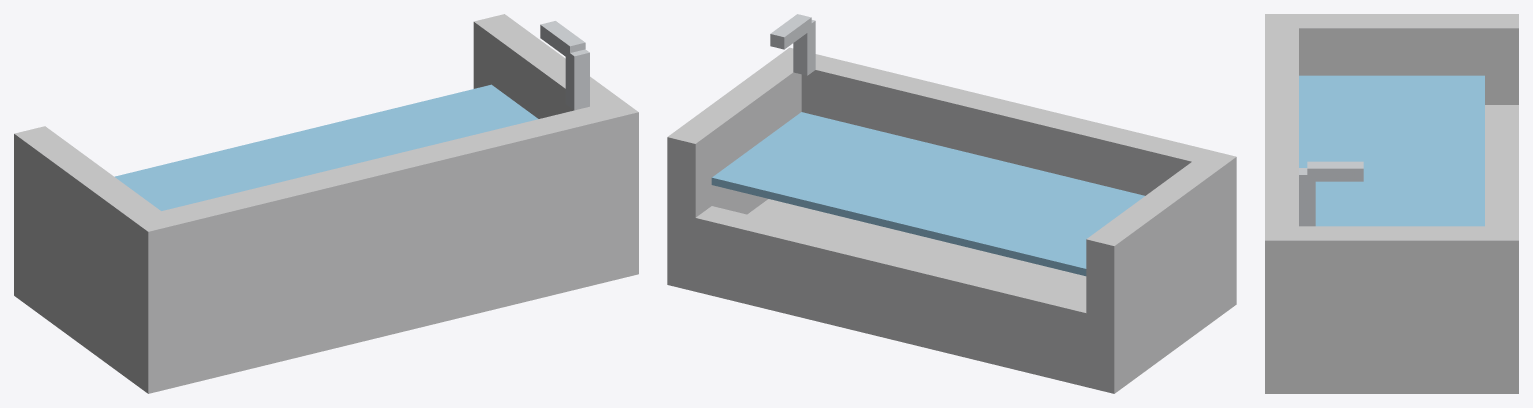
Rendered from bathtub.glb.
The picture shows the model from 3 angles, left to right: view 1: azimuth 30°, elevation 25°; view 2: azimuth 150°, elevation 25°; view 3: azimuth 270°, elevation 25°; orthographic projection. The views are drawn at different scales.
Parts seen in each view (by area): view 1: bathtub; view 2: bathtub; view 3: bathtub.
Part boxes in pixels (x1=…): bathtub: x1=14, y1=14, x2=638, y2=393; bathtub: x1=667, y1=14, x2=1236, y2=393; bathtub: x1=1265, y1=14, x2=1518, y2=393.
Size of the model in its own units: 1.9 by 0.825 by 0.9.
